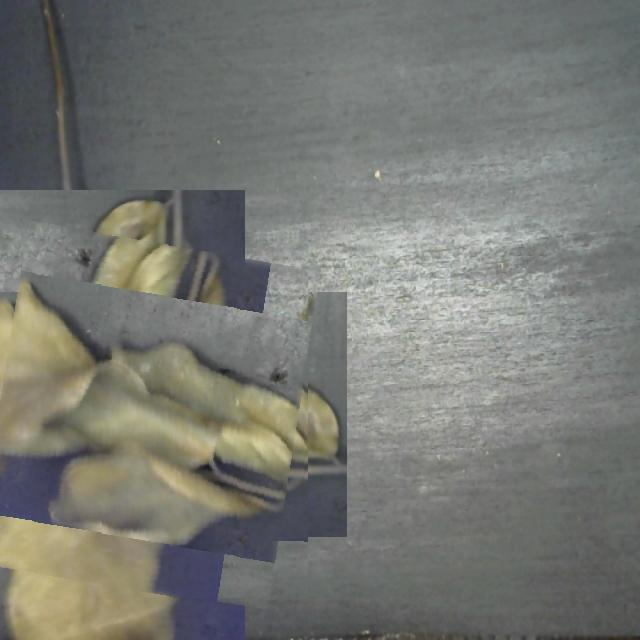biodegradable: (0, 230, 308, 598)
